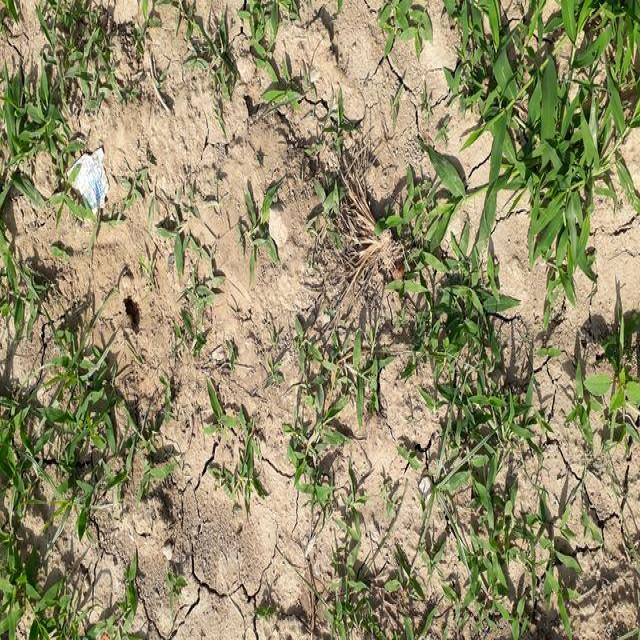weed: (432, 11, 640, 297), (9, 320, 140, 640), (449, 371, 595, 640), (0, 0, 77, 221)
